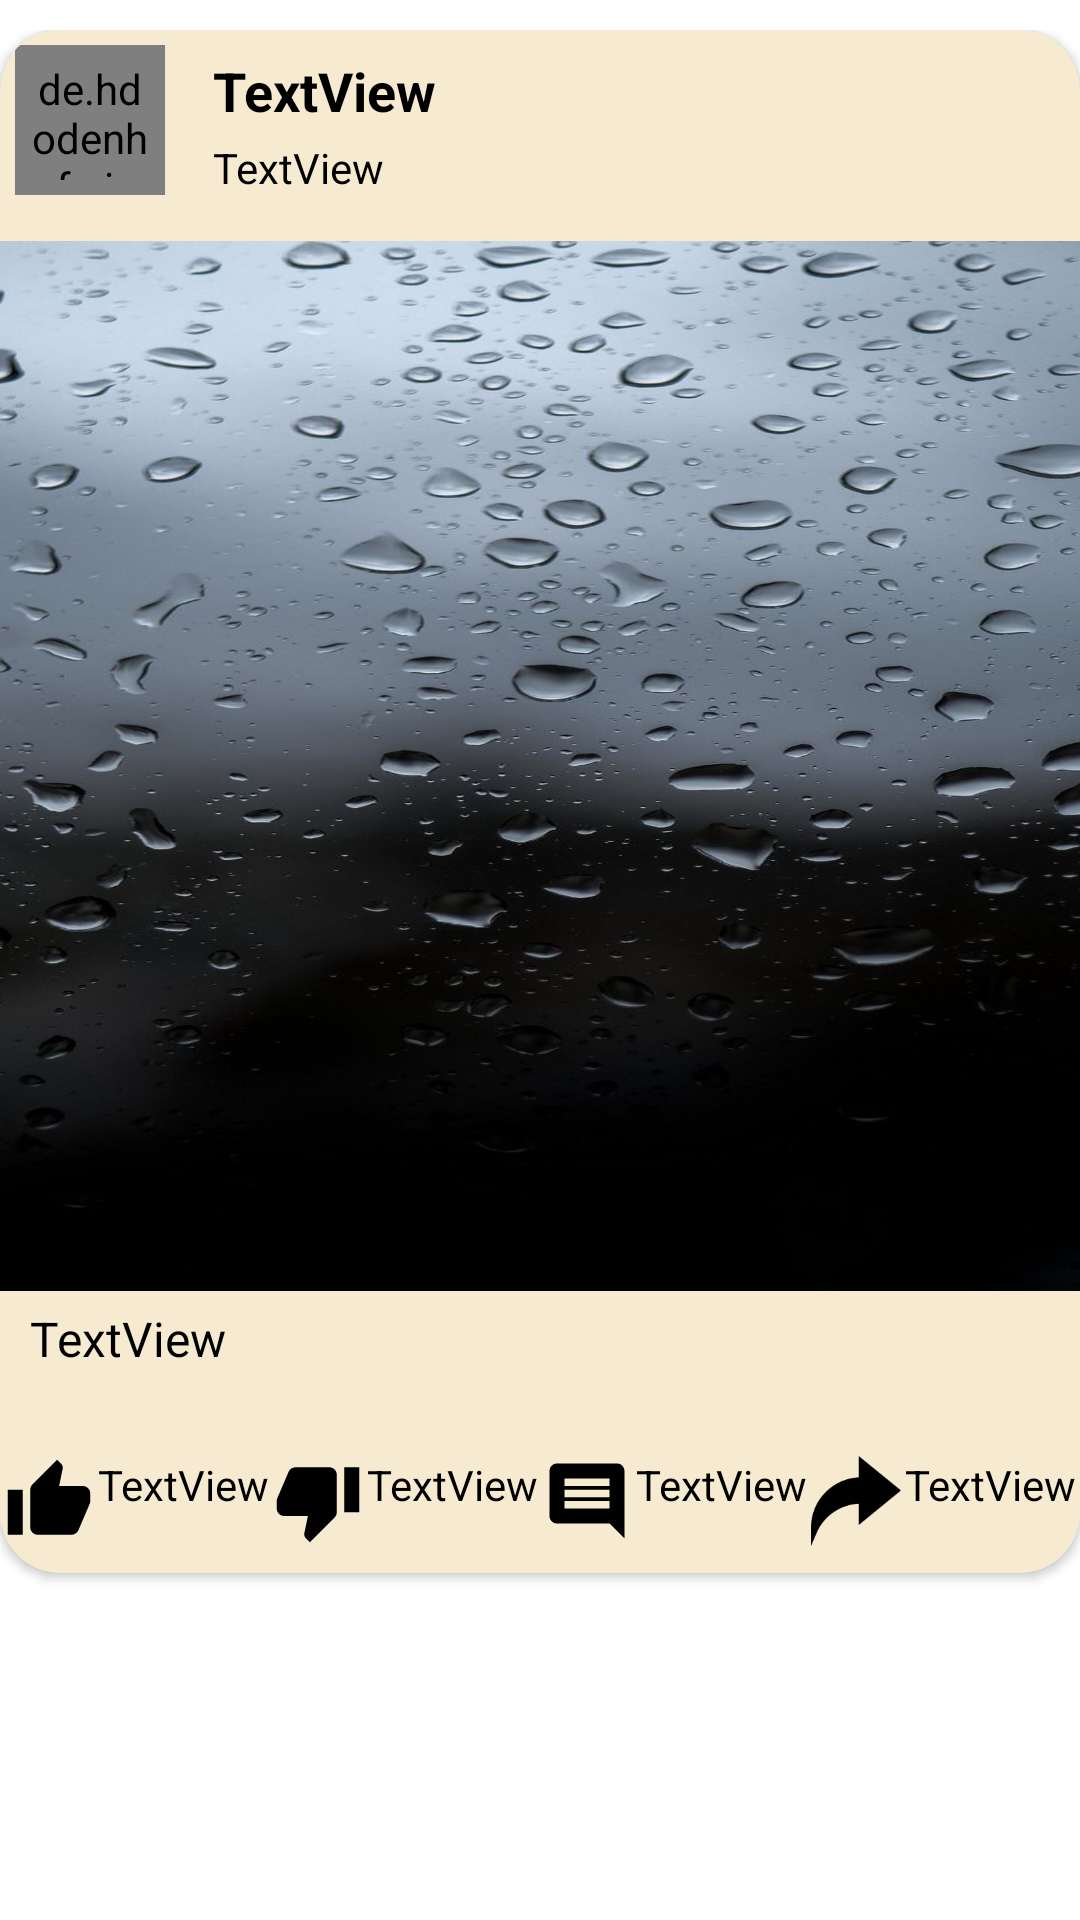

Point at icon controls on the screen. Image size 1080*1920, points as [x,y].
comment: [587,1500]
share: [856,1501]
thumb down: [318,1504]
thumb up: [49,1497]
